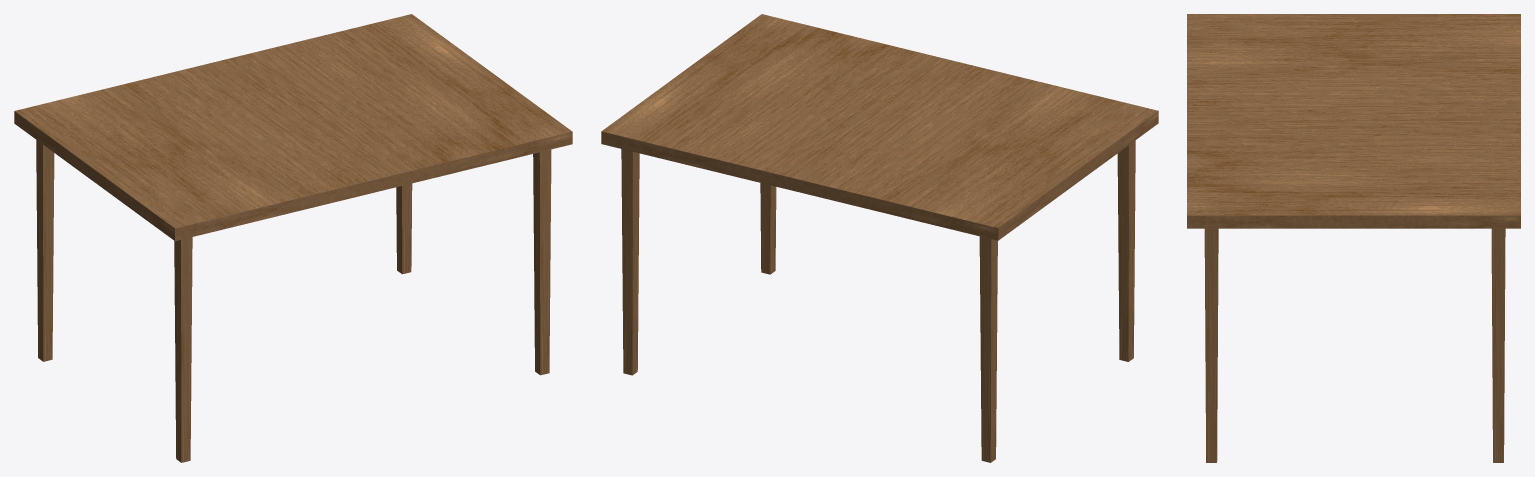
Rendered from desk.FBX.
The picture shows the model from 3 angles, left to right: view 1: azimuth 30°, elevation 25°; view 2: azimuth 150°, elevation 25°; view 3: azimuth 270°, elevation 25°; orthographic projection. The views are drawn at different scales.
Visible parts, largest first — view 1: Box002; view 2: Box002; view 3: Box002.
Boxes of the visible parts, box(x1,y1,x2,y2) form: Box002: box(14, 14, 572, 462); Box002: box(601, 14, 1158, 462); Box002: box(1187, 14, 1520, 462).
Size of the model in its own units: 52.01 by 30.62 by 36.42.
